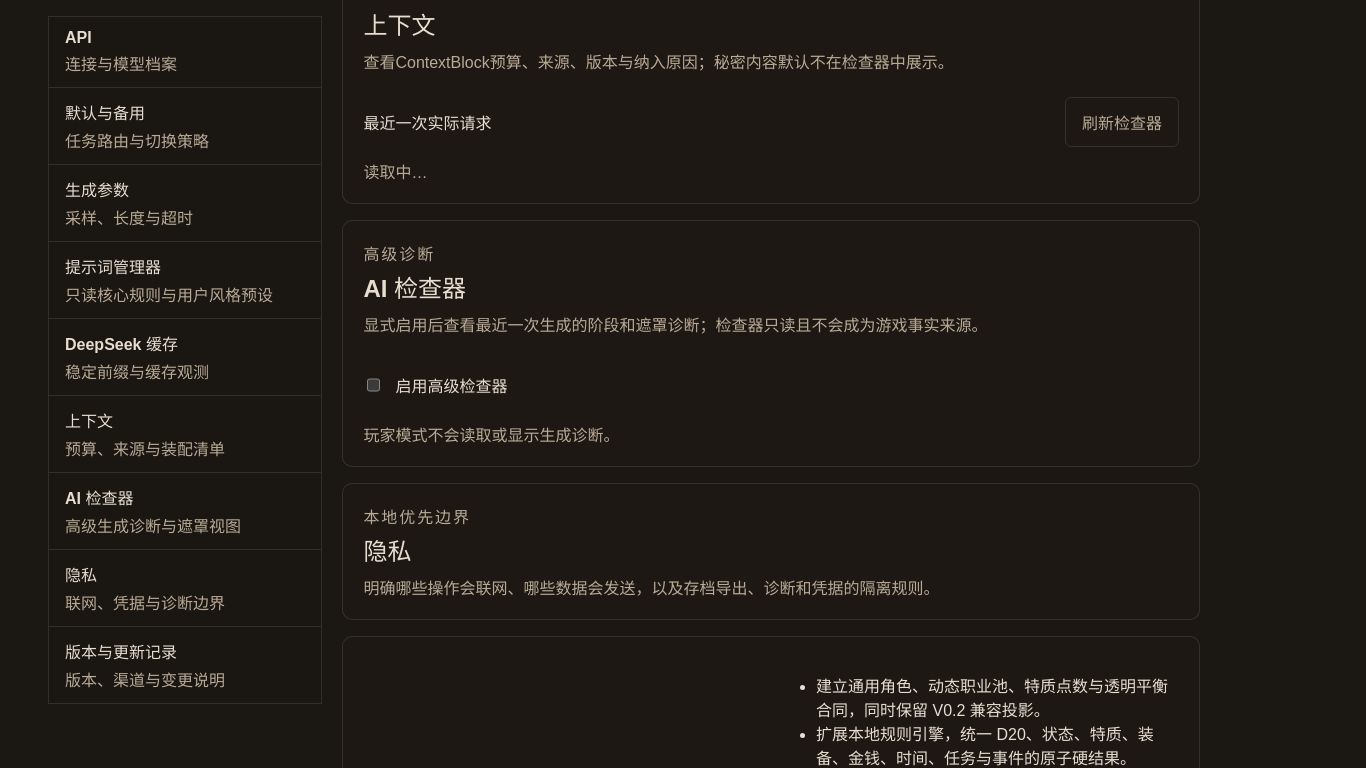
Test case: My page information architecture › keeps AI diagnostics off in player mode and renders only the advanced snapshot
(page scrolled)
Check: the text "玩家模式不会读取或显示生成诊断。" is shown, box [363,427,619,444]
Click the checkbox labelled "启用高级检查器" at (374, 385), box [367,363,380,407]
(page scrolled)
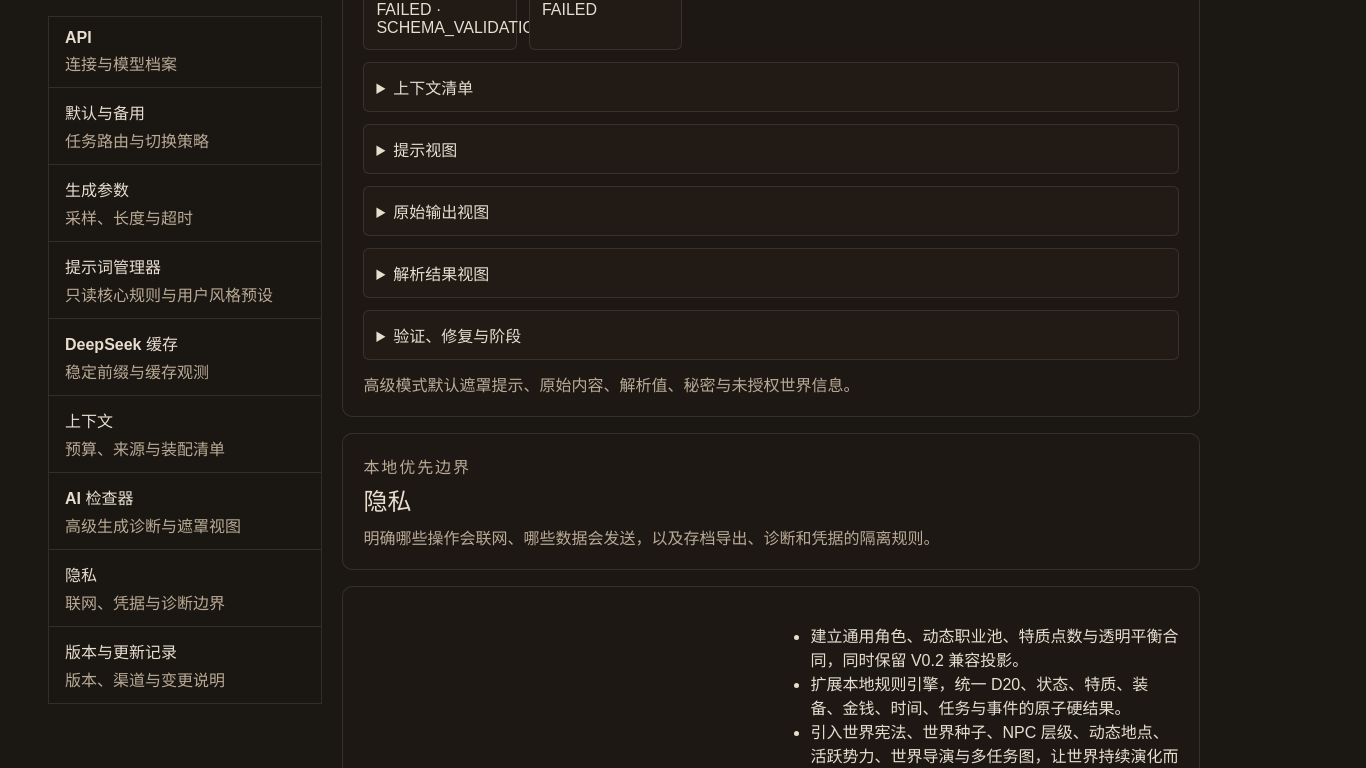
Check: the text "FAILED · SCHEMA_VALIDATION_FAILED" is shown, box [376,1,504,37]
Check: the text "高级模式默认遮罩提示、原始内容、解析值、秘密与未授权世界信息。" is shown, box [363,377,859,394]
